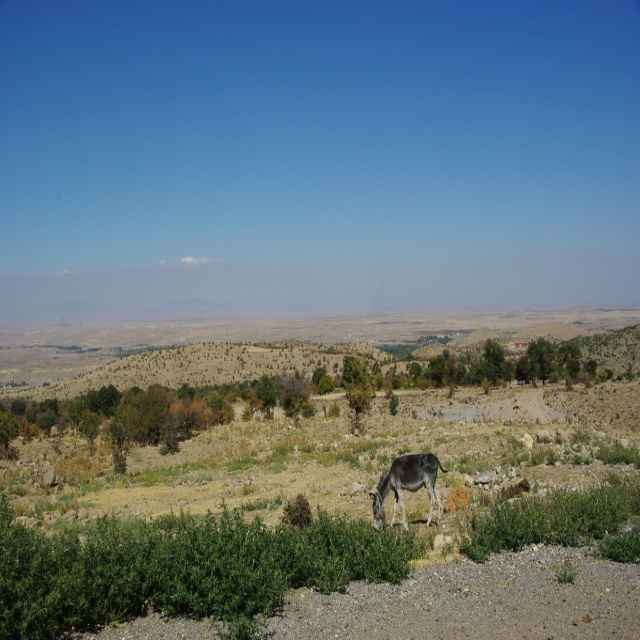Mule: (364, 449, 440, 541)
